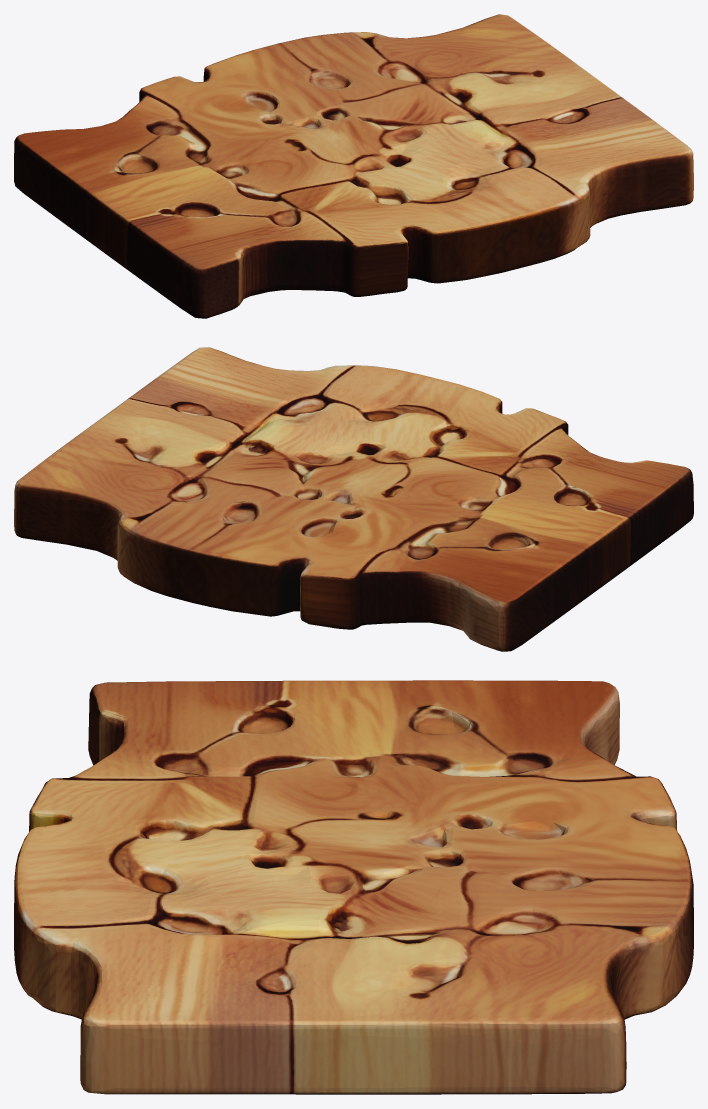
The model's file is wooden-puzzle-rustic.jpeg.glb.
3 renders of one model, top to bottom at view 1: azimuth 30°, elevation 25°; view 2: azimuth 150°, elevation 25°; view 3: azimuth 270°, elevation 25°, orthographic. The views are drawn at different scales.
Visible parts, largest first — view 1: world; view 2: world; view 3: world.
Part boxes in pixels (box(x1,y1,x2,y2)): world: box(14, 14, 693, 318); world: box(14, 347, 693, 651); world: box(14, 680, 693, 1094).
Size of the model in its own units: 0.9933 by 0.1057 by 0.8259.
Materials: 1 (1 with a texture image).
